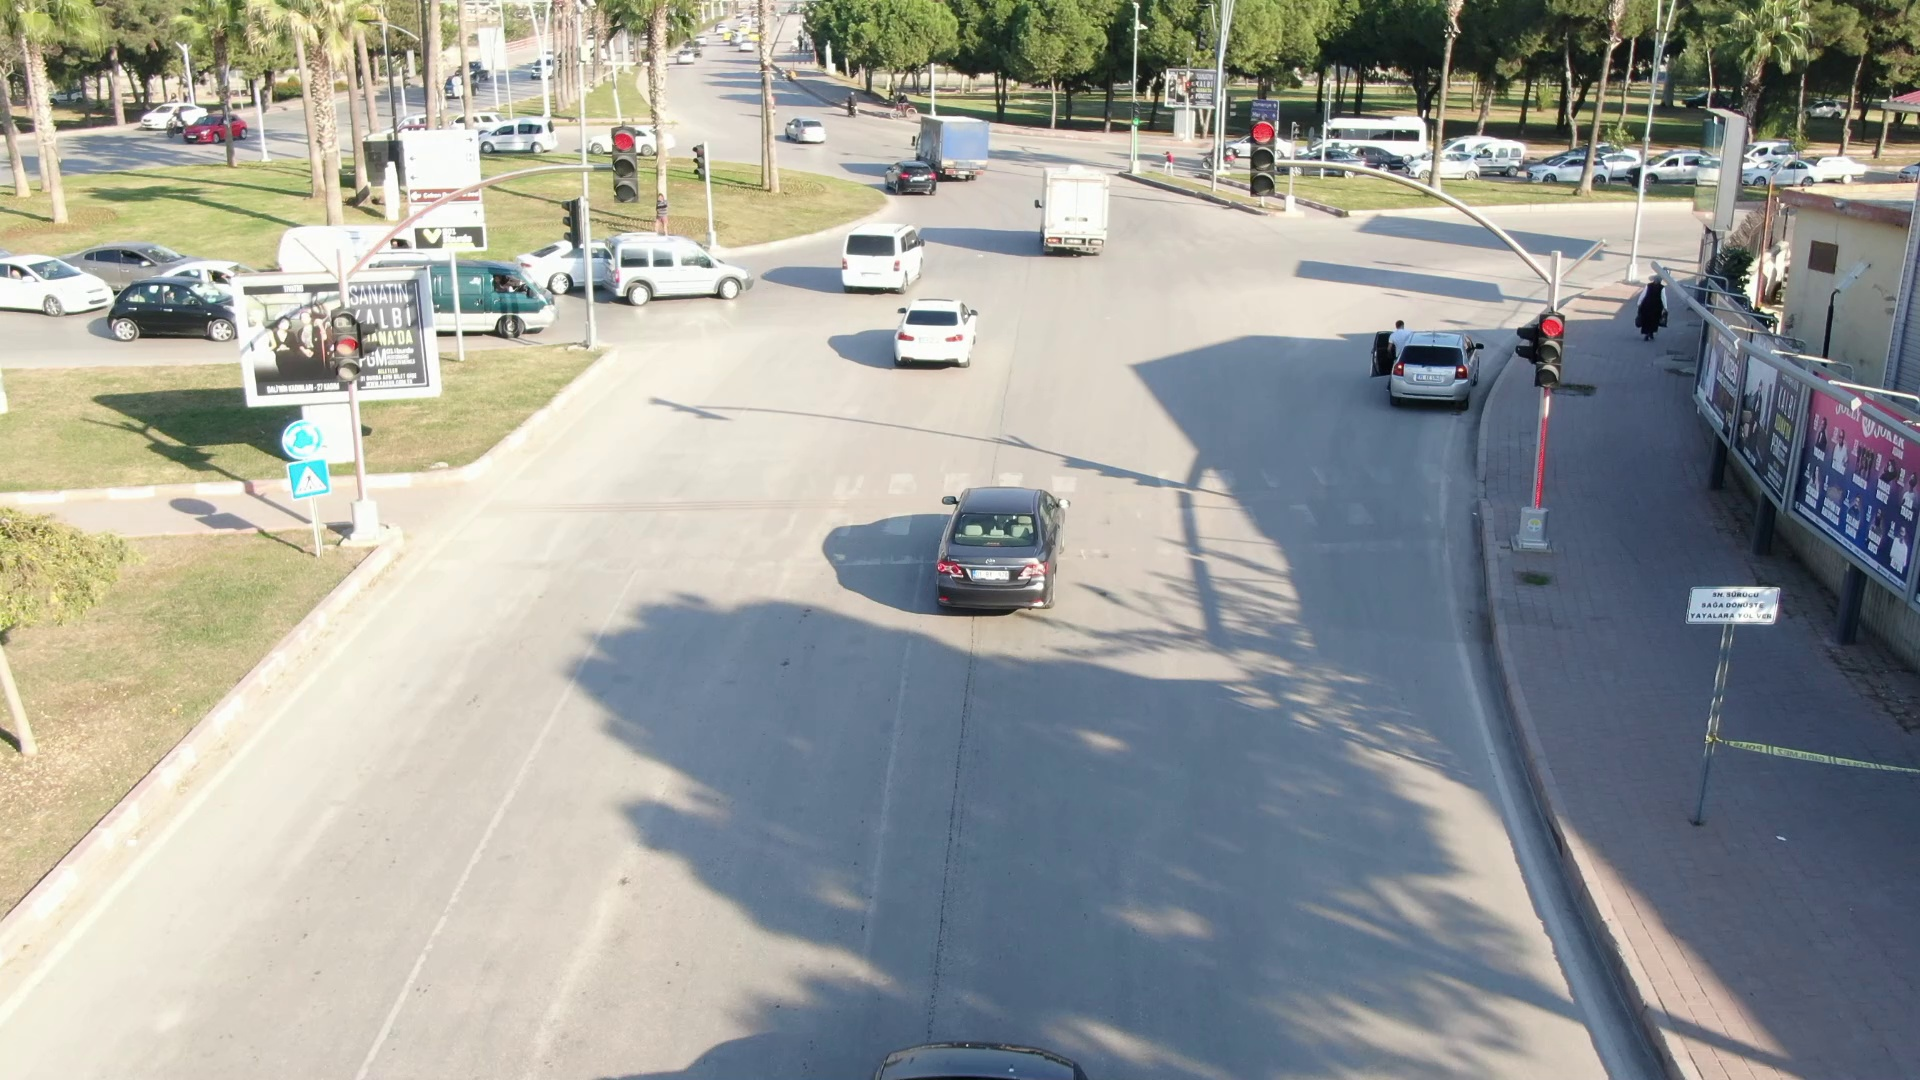car: (908, 474, 1089, 625), (1020, 160, 1131, 265), (598, 231, 751, 304), (881, 288, 996, 378), (828, 218, 937, 298), (1390, 335, 1487, 415), (869, 156, 949, 204)
person: (1629, 270, 1680, 347)
